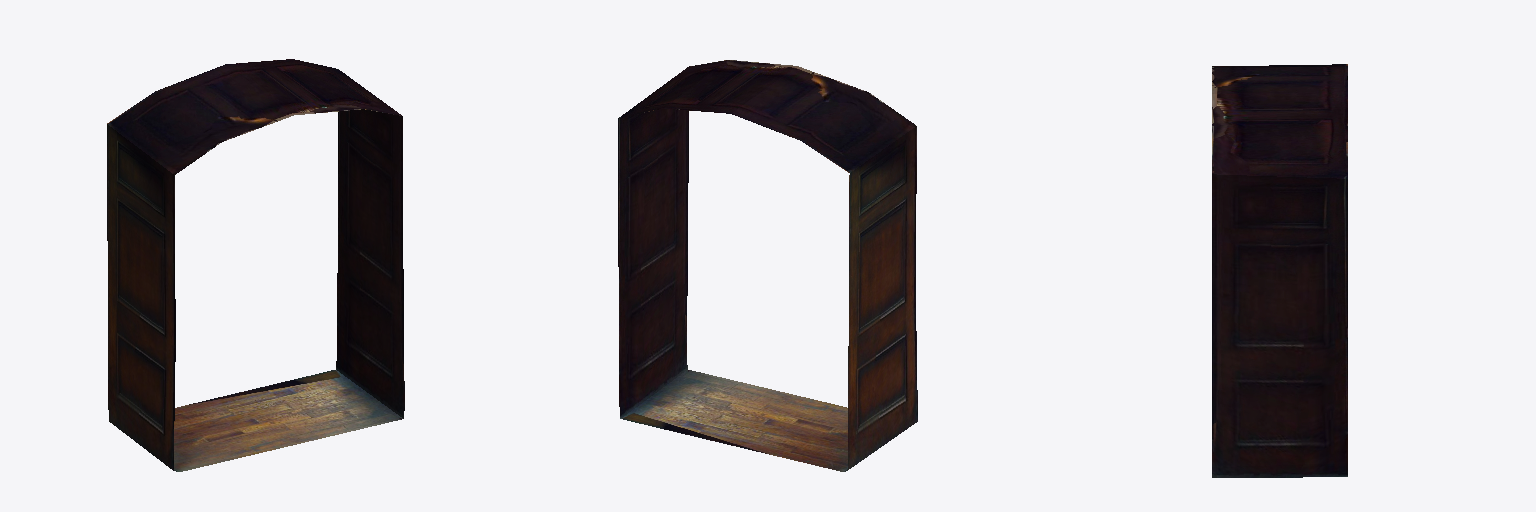
3 renders of one model, left to right at view 1: azimuth 30°, elevation 25°; view 2: azimuth 150°, elevation 25°; view 3: azimuth 270°, elevation 25°, orthographic.
Visible parts, largest first — view 1: Kitchen_GEO_GRP1_Kitchen_87; view 2: Kitchen_GEO_GRP1_Kitchen_87; view 3: Kitchen_GEO_GRP1_Kitchen_87.
Part boxes in pixels (x1,y1,x2,y2): Kitchen_GEO_GRP1_Kitchen_87: (107, 59, 404, 471); Kitchen_GEO_GRP1_Kitchen_87: (618, 60, 917, 471); Kitchen_GEO_GRP1_Kitchen_87: (1212, 64, 1347, 477).
Bounding box in the file's own units: 1.88 × 2.57 × 0.9508.
Materials: 1 (1 with a texture image).